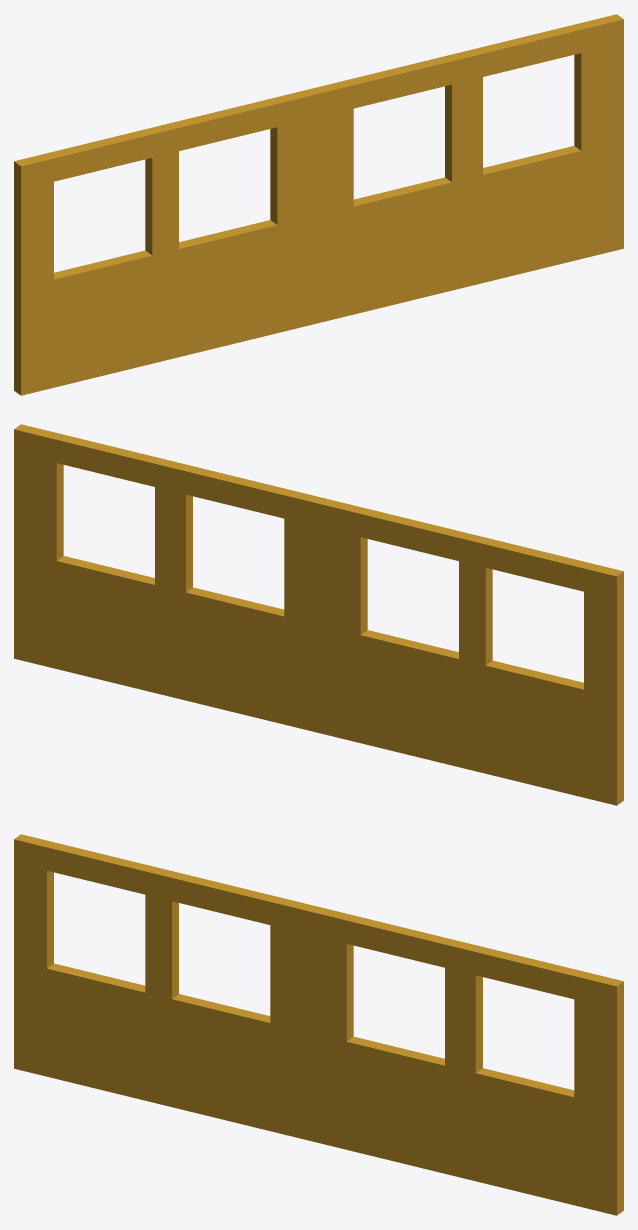
File: wall.fbx
The picture shows the model from 3 angles, top to bottom: view 1: azimuth 30°, elevation 25°; view 2: azimuth 150°, elevation 25°; view 3: azimuth 330°, elevation 25°; orthographic projection.
Visible parts, largest first — view 1: pCube11; view 2: pCube11; view 3: pCube11.
Boxes of the visible parts, left/top/right/bottom form: pCube11: left=14, top=14, right=623, bottom=395; pCube11: left=14, top=424, right=623, bottom=805; pCube11: left=14, top=834, right=623, bottom=1215.
Bounding box in the file's own units: 49.21 × 17.89 × 1.
